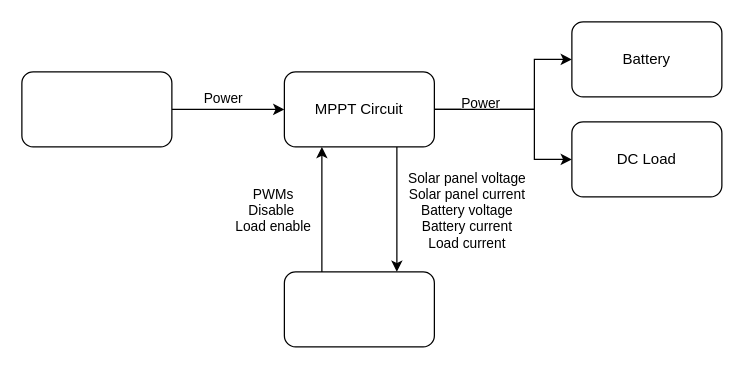
This 744x369 diagram has some shape labels left out. The centre of each missing label's shape, as x and y in pixels:
"Microcontroller" belongs at [358,309].
"Solar panels" belongs at [96,109].
